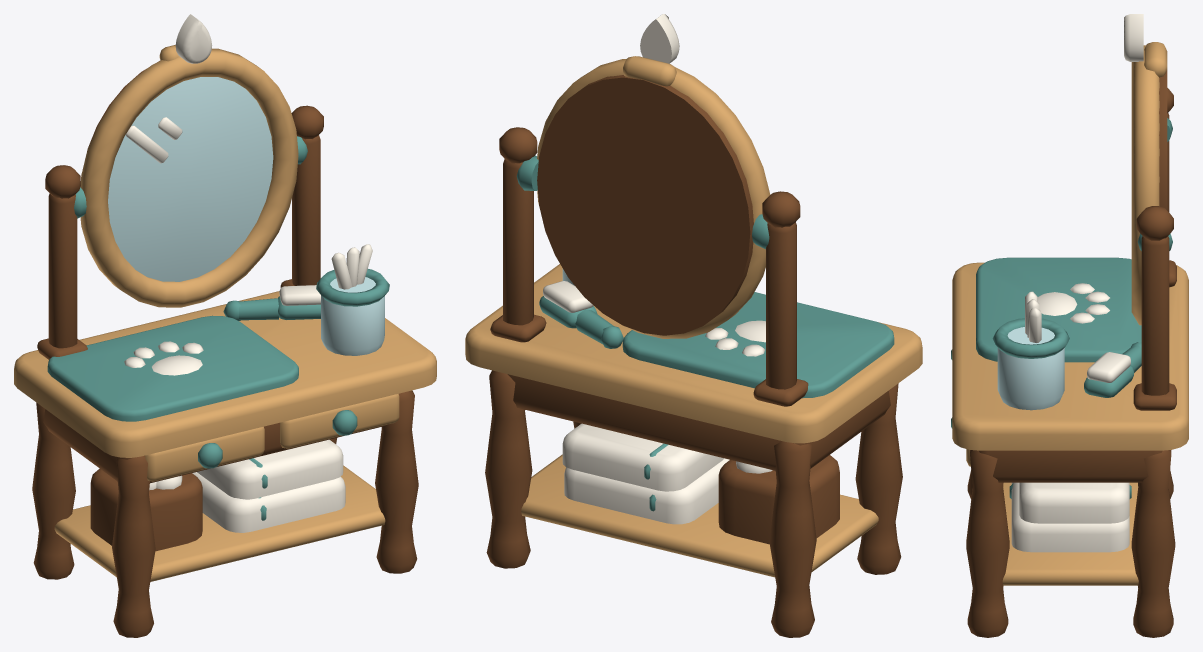
The model's file is ShopGroomTable.fbx.
3 views of the same model, side by side, from view 1: azimuth 30°, elevation 25°; view 2: azimuth 150°, elevation 25°; view 3: azimuth 270°, elevation 25° (orthographic). The views are drawn at different scales.
Parts seen in each view (by area): view 1: ShopGroomTable; view 2: ShopGroomTable; view 3: ShopGroomTable.
Boxes of the visible parts, <box> form: ShopGroomTable: <box>14,14,436,637</box>; ShopGroomTable: <box>465,14,922,637</box>; ShopGroomTable: <box>951,14,1188,637</box>.
Size of the model in its own units: 1 by 1.54 by 0.6035.
